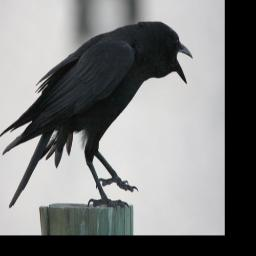Crow: (0, 20, 193, 211)
